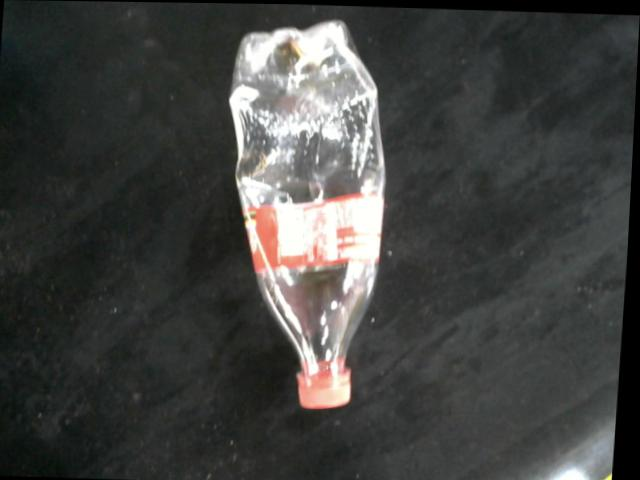bottle: (230, 16, 389, 409)
